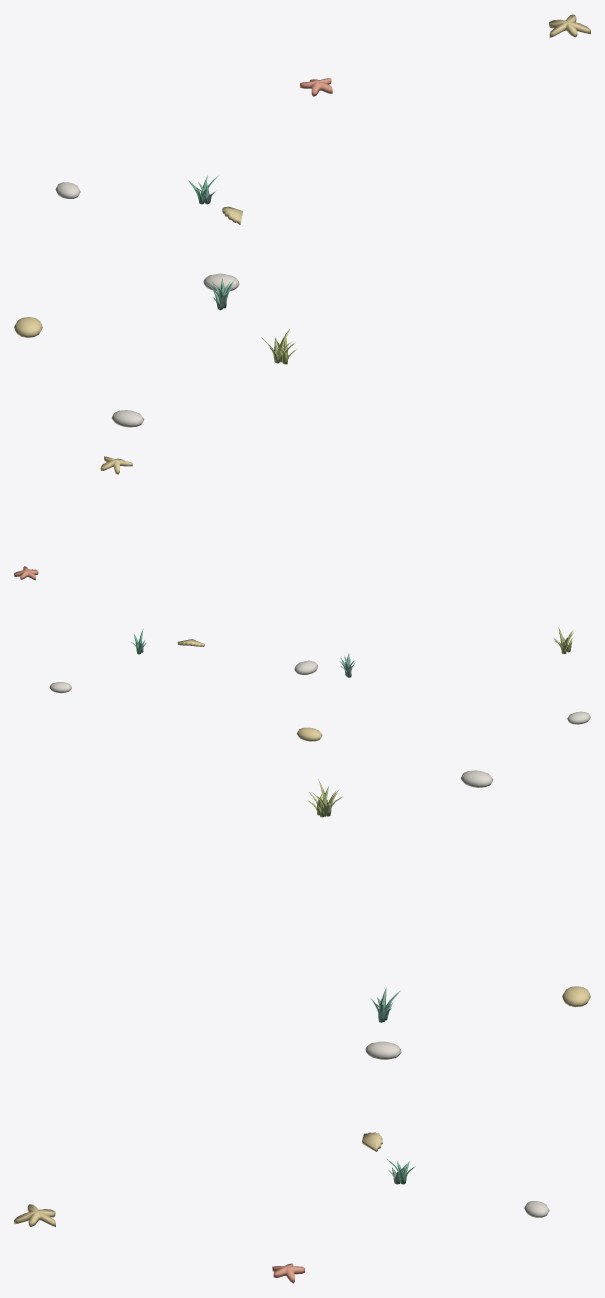
The model's file is W2_FloraRing_9_8.fbx.
The picture shows the model from 3 angles, top to bottom: view 1: azimuth 90°, elevation 25°; view 2: azimuth 150°, elevation 25°; view 3: azimuth 270°, elevation 25°; orthographic projection. The views are drawn at different scales.
Parts seen in each view (by area): view 1: W2_FloraRing_9_8; view 2: W2_FloraRing_9_8; view 3: W2_FloraRing_9_8.
Part boxes in pixels (x1,y1,x2,y2): W2_FloraRing_9_8: (14, 14, 590, 427); W2_FloraRing_9_8: (14, 456, 590, 741); W2_FloraRing_9_8: (14, 770, 590, 1283).
Bounding box in the file's own units: 3.86 × 0.6257 × 2.19.
